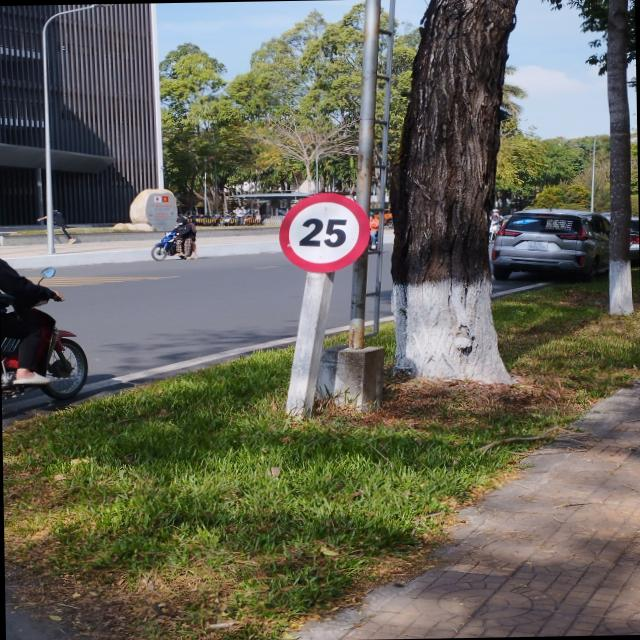Tre_Em: (278, 192, 371, 274)
